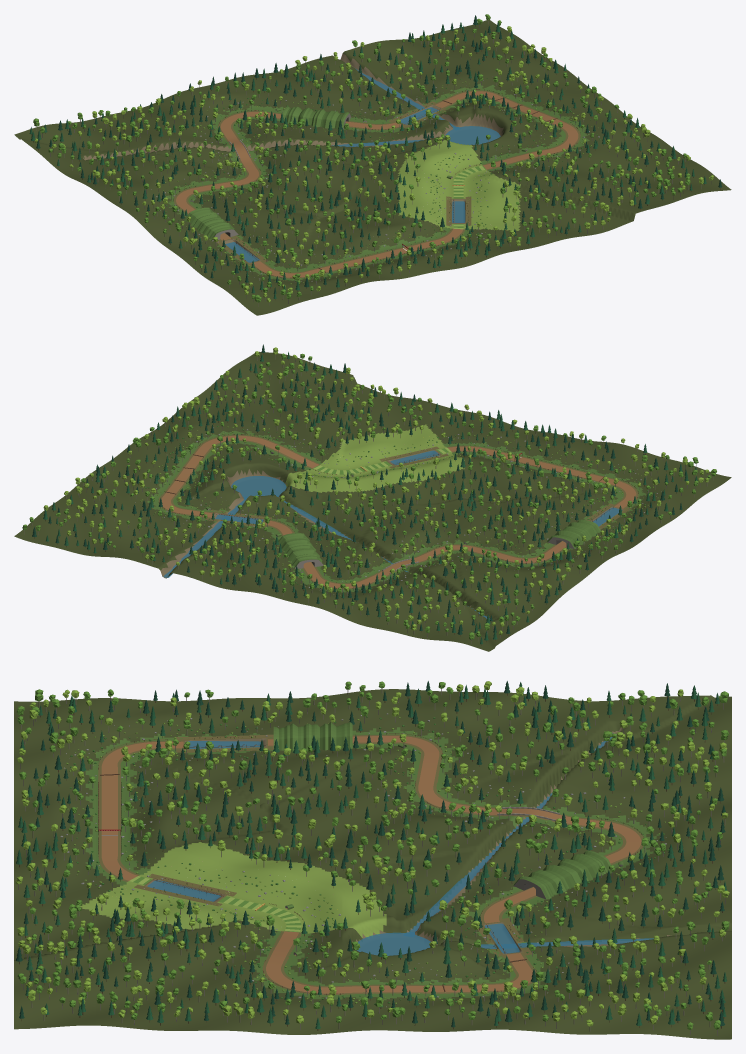
File: wendover_woods.glb
3 views of the same model, one above another, from view 1: azimuth 30°, elevation 25°; view 2: azimuth 150°, elevation 25°; view 3: azimuth 270°, elevation 25° (orthographic). The views are drawn at different scales.
Parts seen in each view (by area): view 1: Track_Surface, Terrain_Ground_07_00, Terrain_Ground_06_01, Terrain_Ground_08_06, Terrain_Ground_06_02, Terrain_Ground_05_07, Terrain_Ground_04_03, Terrain_Ground_05_03, Terrain_Ground_02_02, Terrain_Ground_07_04, Terrain_Ground_07_01, Terrain_Ground_00_00 (+88 smaller); view 2: Track_Surface, Terrain_Ground_07_04, Terrain_Ground_02_00, Terrain_Ground_05_04, Terrain_Ground_00_06, Terrain_Ground_07_05, Terrain_Ground_06_02, Terrain_Ground_08_07, Terrain_Ground_01_00, Terrain_Ground_01_06, Terrain_Ground_06_04, Terrain_Ground_03_02 (+86 smaller); view 3: Track_Surface, Terrain_Ground_06_04, Terrain_Ground_05_03, Terrain_Ground_02_06, Terrain_Ground_04_05, Terrain_Ground_00_04, Terrain_Ground_06_07, Terrain_Ground_00_01, Terrain_Ground_00_02, Terrain_Ground_00_05, Terrain_Ground_04_02, Terrain_Ground_02_03 (+142 smaller).
Boxes of the visible parts, x1,y1,x2,y2 form: Track_Surface: [176, 91, 578, 277]; Terrain_Ground_07_00: [566, 194, 641, 234]; Terrain_Ground_06_01: [490, 186, 565, 226]; Terrain_Ground_08_06: [448, 58, 522, 98]; Terrain_Ground_06_02: [466, 169, 537, 202]; Terrain_Ground_05_07: [275, 79, 350, 111]; Terrain_Ground_04_03: [338, 171, 413, 206]; Terrain_Ground_05_03: [388, 155, 452, 189]; Terrain_Ground_02_02: [270, 218, 344, 251]; Terrain_Ground_07_04: [456, 110, 529, 144]; Terrain_Ground_07_01: [540, 174, 613, 209]; Terrain_Ground_00_00: [229, 283, 304, 315]; Track_Surface: [161, 435, 636, 588]; Terrain_Ground_07_04: [209, 455, 283, 496]; Terrain_Ground_02_00: [560, 440, 635, 476]; Terrain_Ground_05_04: [305, 479, 379, 519]; Terrain_Ground_00_06: [489, 581, 564, 619]; Terrain_Ground_07_05: [181, 475, 244, 514]; Terrain_Ground_06_02: [313, 430, 387, 467]; Terrain_Ground_08_07: [77, 504, 152, 542]; Terrain_Ground_01_00: [608, 448, 682, 485]; Terrain_Ground_01_06: [441, 570, 516, 606]; Terrain_Ground_06_04: [262, 469, 331, 508]; Terrain_Ground_03_02: [456, 467, 531, 502]; Track_Surface: [101, 736, 641, 993]; Terrain_Ground_06_04: [342, 896, 424, 946]; Terrain_Ground_05_03: [260, 864, 342, 909]; Terrain_Ground_02_06: [506, 759, 588, 808]; Terrain_Ground_04_05: [424, 832, 506, 877]; Terrain_Ground_00_04: [342, 689, 424, 733]; Terrain_Ground_06_07: [588, 901, 670, 946]; Terrain_Ground_00_01: [96, 698, 177, 739]; Terrain_Ground_00_02: [178, 698, 259, 738]; Terrain_Ground_00_05: [424, 690, 506, 731]; Terrain_Ground_04_02: [178, 833, 259, 875]; Terrain_Ground_02_03: [260, 762, 342, 804].
Bounding box in the file's own units: 592 × 34.55 × 525.
